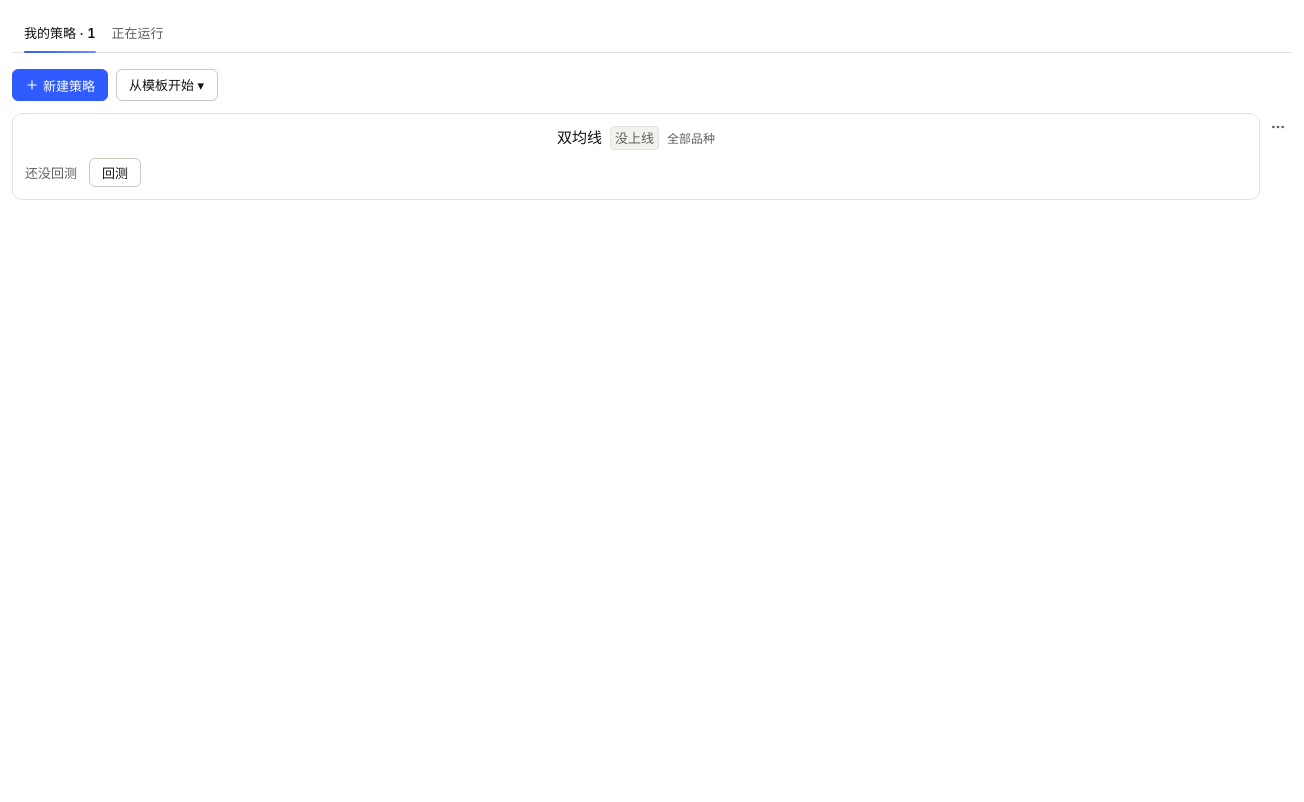
it: 策略体检：命令 applyAdvice 与按钮同一路径；结果里没有的建议被拒绝
Click the button with aria-label "双均线 · " at (636, 138), box [25,126,1247,150]
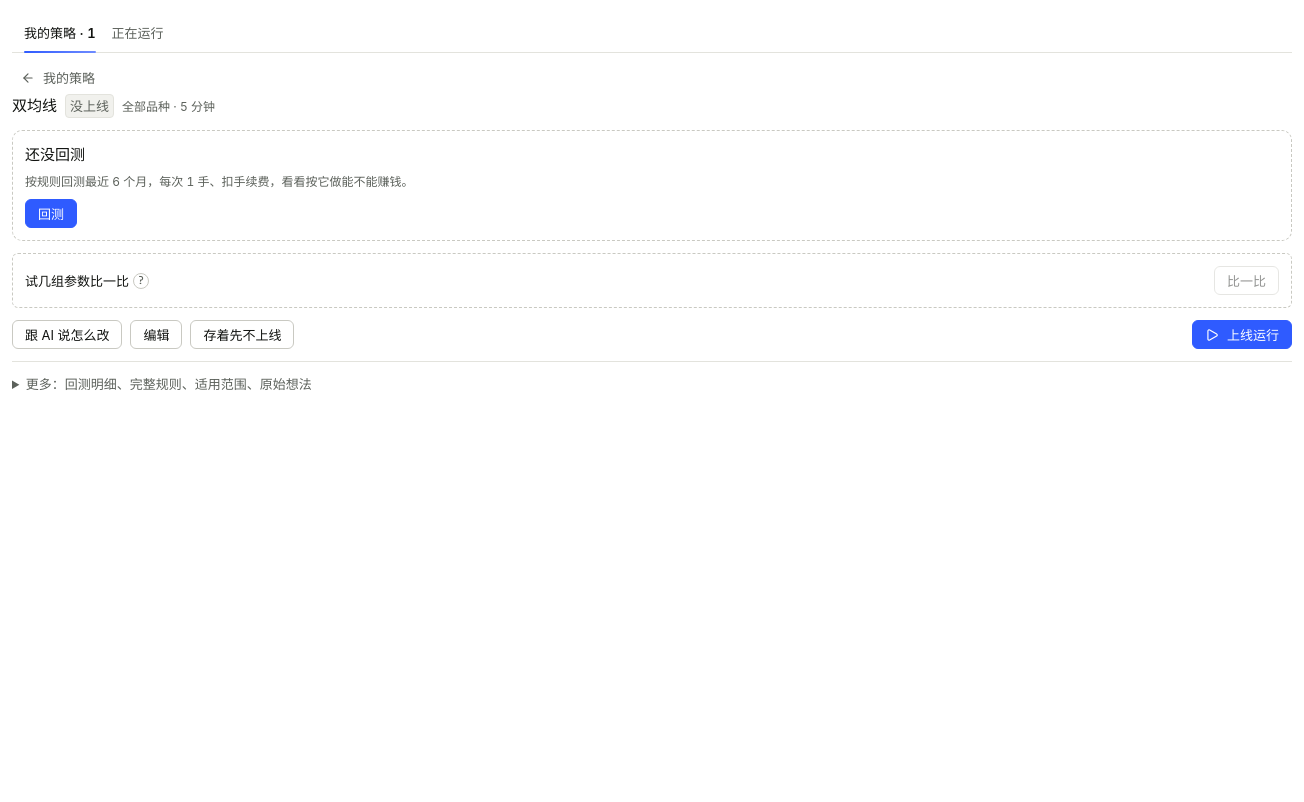
Click the button "回测" at (51, 214), box [25,199,77,228]
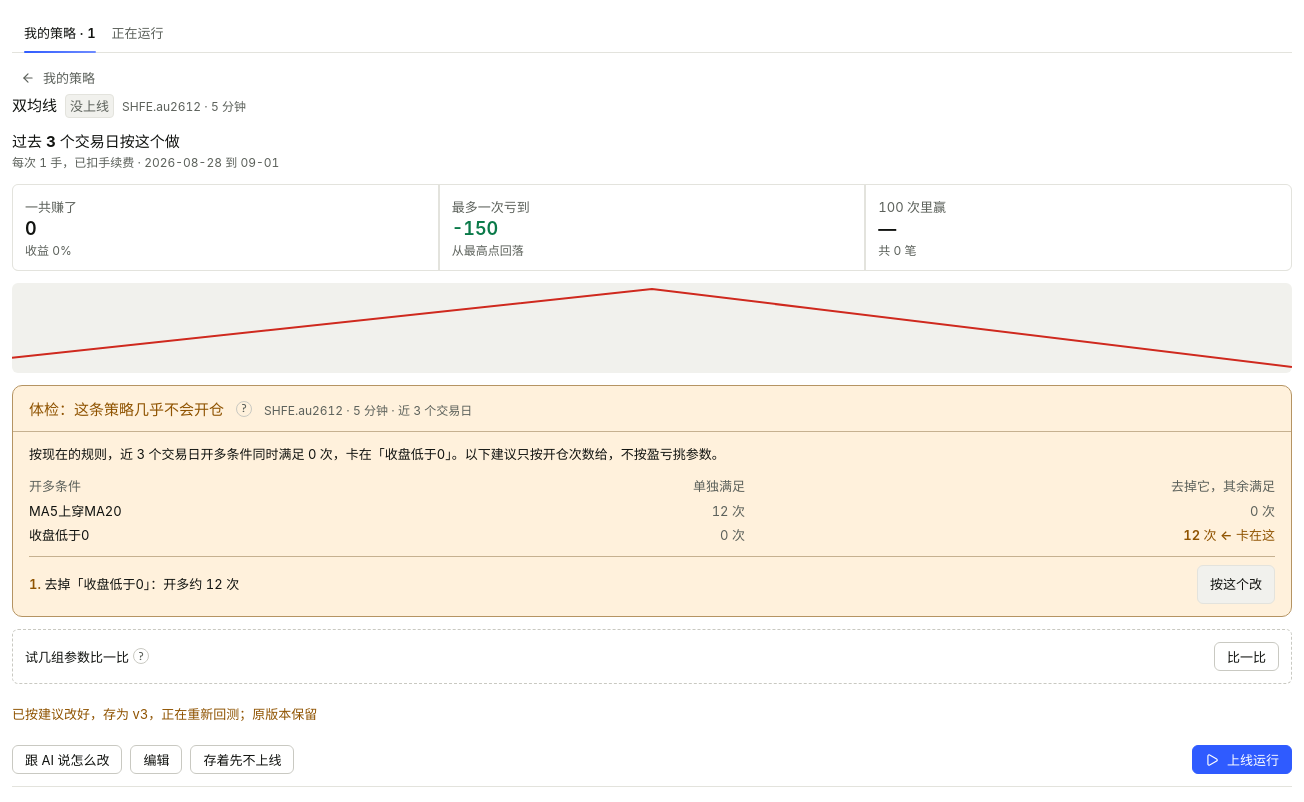
Expected: the element with test id "strategy-health" that starts with "体检：这条策略几乎不会开仓" is shown, [12,385,1292,617]
